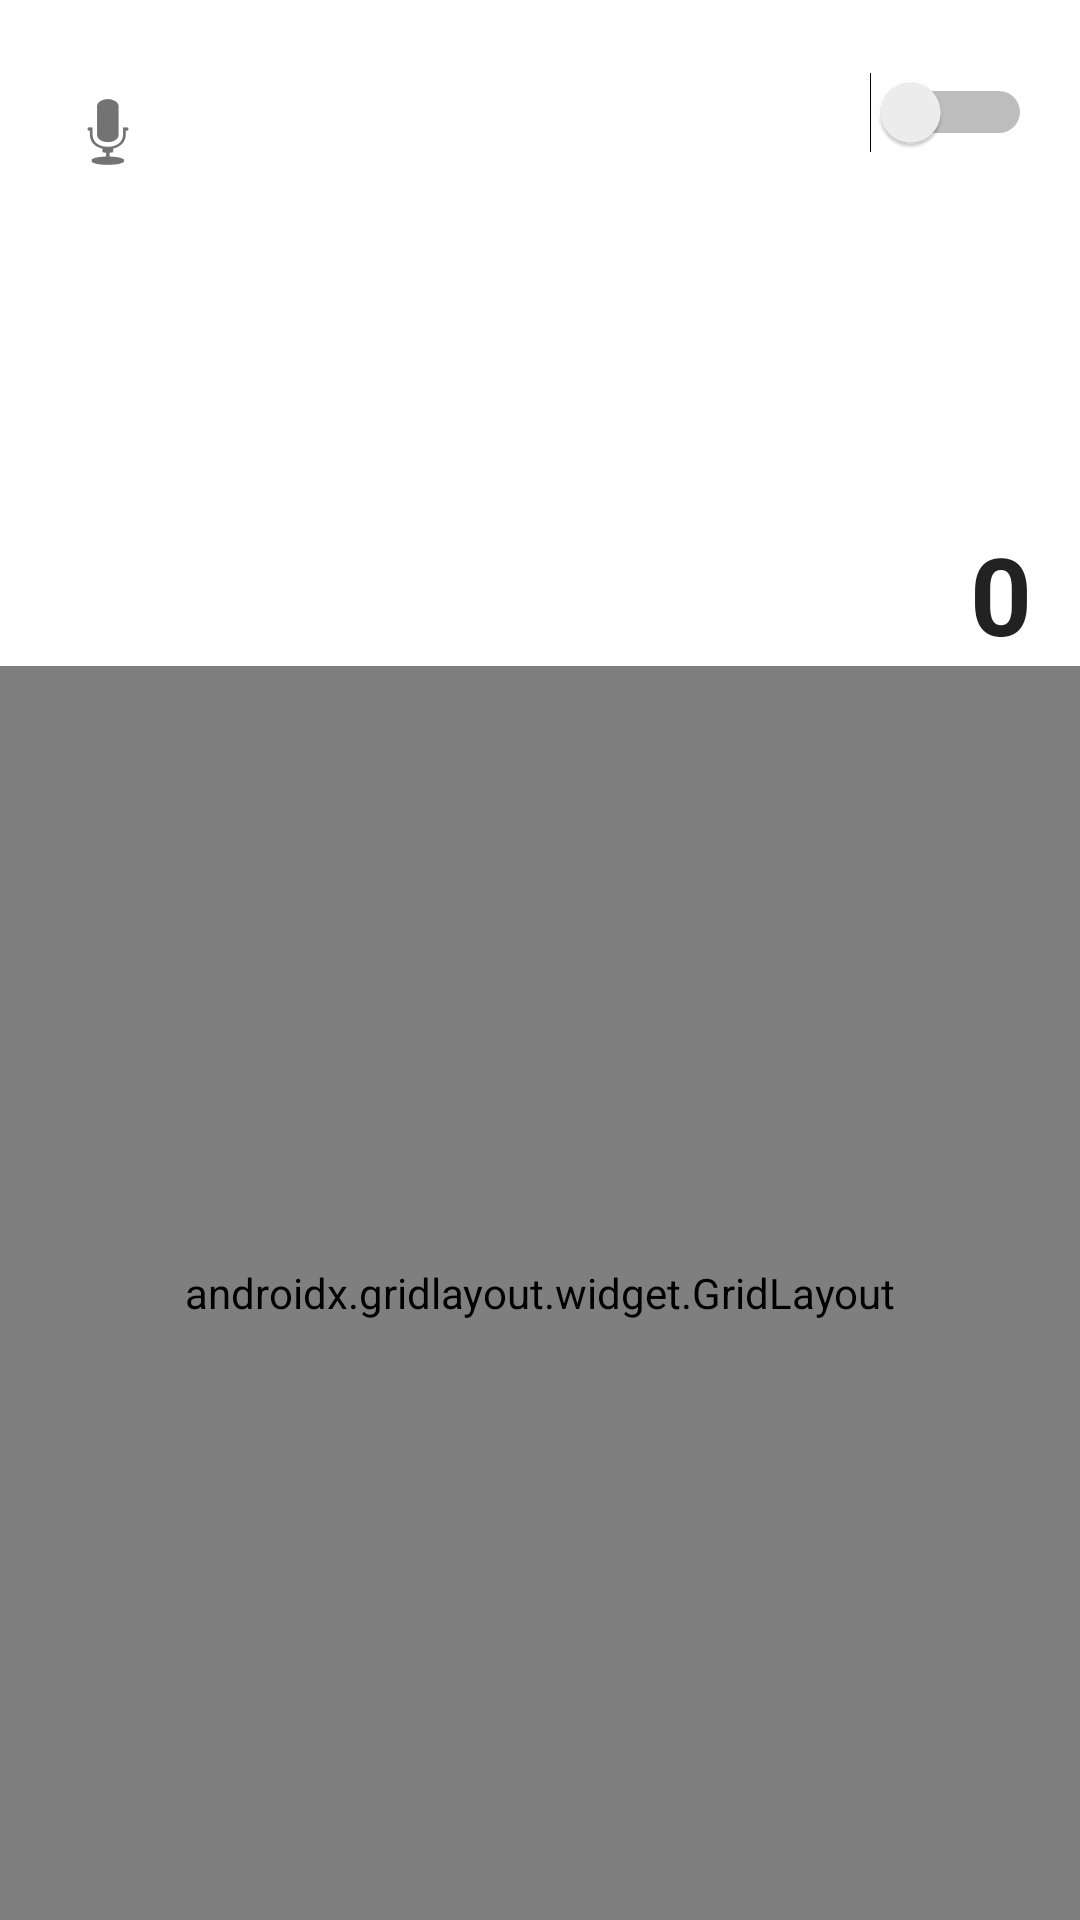

Where to tap for icons on this 1080*1920 app screen, as [x,y]:
speak now: [108,132]
